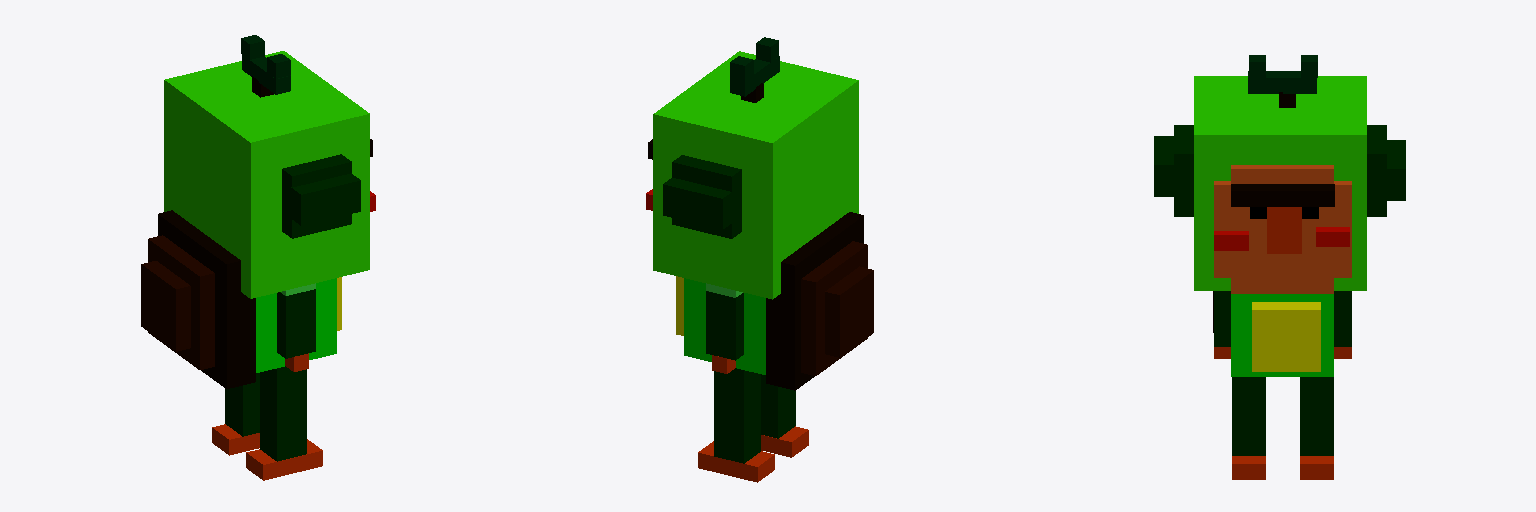
The model's file is ModelBackup.obj.
3 renders of one model, left to right at view 1: azimuth 30°, elevation 25°; view 2: azimuth 150°, elevation 25°; view 3: azimuth 270°, elevation 25°, orthographic.
Visible parts, largest first — view 1: character:Default polySurface29, character:Default polySurface26, polySurface9, character:Default polySurface6, character:Default polySurface12, character:Default polySurface25, character:Default polySurface8, polySurface5, character:Default polySurface15, character:Default polySurface2, character:Default polySurface24; view 2: character:Default polySurface29, character:Default polySurface26, polySurface5, character:Default polySurface6, character:Default polySurface12, character:Default polySurface25, character:Default polySurface23, polySurface9, character:Default polySurface20, character:Default polySurface11, character:Default polySurface24; view 3: character:Default polySurface29, character:Default polySurface27, character:Default polySurface13, character:Default polySurface25, polySurface5, polySurface9, character:Default polySurface30, character:Default polySurface22, character:Default polySurface15, character:Default polySurface20, character:Default polySurface28, character:Default polySurface24 (+6 smaller).
Boxes of the visible parts, <box> form: character:Default polySurface29: <box>164,51,369,298</box>; character:Default polySurface26: <box>158,210,255,388</box>; polySurface9: <box>246,366,322,480</box>; character:Default polySurface6: <box>148,235,214,369</box>; character:Default polySurface12: <box>141,261,190,351</box>; character:Default polySurface25: <box>256,278,336,372</box>; character:Default polySurface8: <box>291,173,360,225</box>; polySurface5: <box>212,373,259,455</box>; character:Default polySurface15: <box>282,154,351,238</box>; character:Default polySurface2: <box>277,289,315,358</box>; character:Default polySurface24: <box>242,55,290,94</box>; character:Default polySurface29: <box>653,51,858,299</box>; character:Default polySurface26: <box>766,212,863,390</box>; polySurface5: <box>698,368,774,482</box>; character:Default polySurface6: <box>801,241,867,375</box>; character:Default polySurface12: <box>825,266,873,357</box>; character:Default polySurface25: <box>684,278,765,374</box>; character:Default polySurface23: <box>663,178,732,229</box>; polySurface9: <box>761,374,808,457</box>; character:Default polySurface20: <box>672,155,741,238</box>; character:Default polySurface11: <box>706,291,743,360</box>; character:Default polySurface24: <box>730,56,779,96</box>; character:Default polySurface29: <box>1194,76,1366,290</box>; character:Default polySurface27: <box>1231,165,1333,293</box>; character:Default polySurface13: <box>1252,302,1320,371</box>; character:Default polySurface25: <box>1231,294,1333,376</box>; polySurface5: <box>1300,377,1333,479</box>; polySurface9: <box>1232,377,1265,479</box>; character:Default polySurface30: <box>1214,181,1351,277</box>; character:Default polySurface22: <box>1231,184,1334,206</box>; character:Default polySurface15: <box>1174,125,1193,216</box>; character:Default polySurface20: <box>1367,125,1386,216</box>; character:Default polySurface28: <box>1267,207,1301,253</box>; character:Default polySurface24: <box>1248,71,1316,93</box>.
Bounding box in the file's own units: 0.6245 × 1.3 × 0.728.